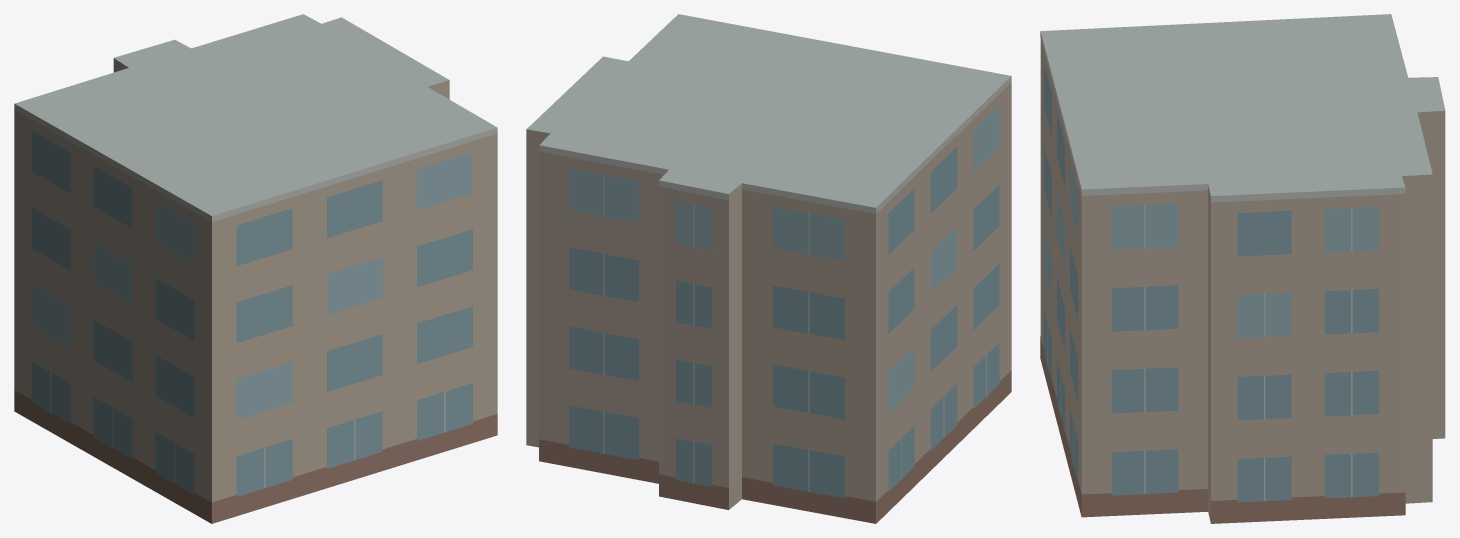
File: survey-upis-32561507.glb
The picture shows the model from 3 angles, left to right: view 1: azimuth 30°, elevation 25°; view 2: azimuth 150°, elevation 25°; view 3: azimuth 270°, elevation 25°; orthographic projection. The views are drawn at different scales.
Parts seen in each view (by area): view 1: survey-upis-32561507.tmp; view 2: survey-upis-32561507.tmp; view 3: survey-upis-32561507.tmp.
Boxes of the visible parts, box(x1,y1,x2,y2) form: survey-upis-32561507.tmp: box(14, 14, 497, 523); survey-upis-32561507.tmp: box(526, 14, 1011, 523); survey-upis-32561507.tmp: box(1040, 14, 1445, 523).
Bounding box in the file's own units: 14.85 × 12.45 × 13.95.
